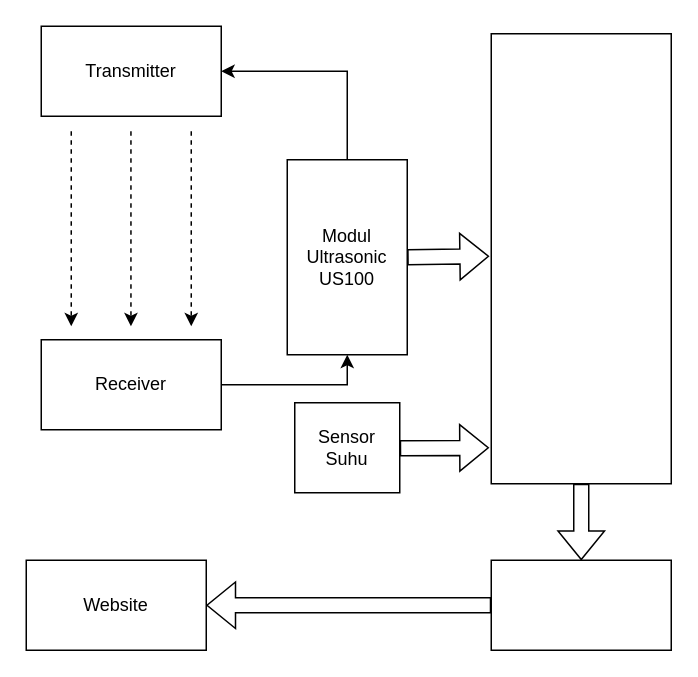
The diagram is 698 pixels wide and 677 high, and some of its shapes have lost their labels. The shapes that lost their labels are listed below. From the top down, each one's centre as x and y in pixels, then its label:
At point 580,258: "Raspberry Pi Pico W".
At point 580,604: "Server Database".
